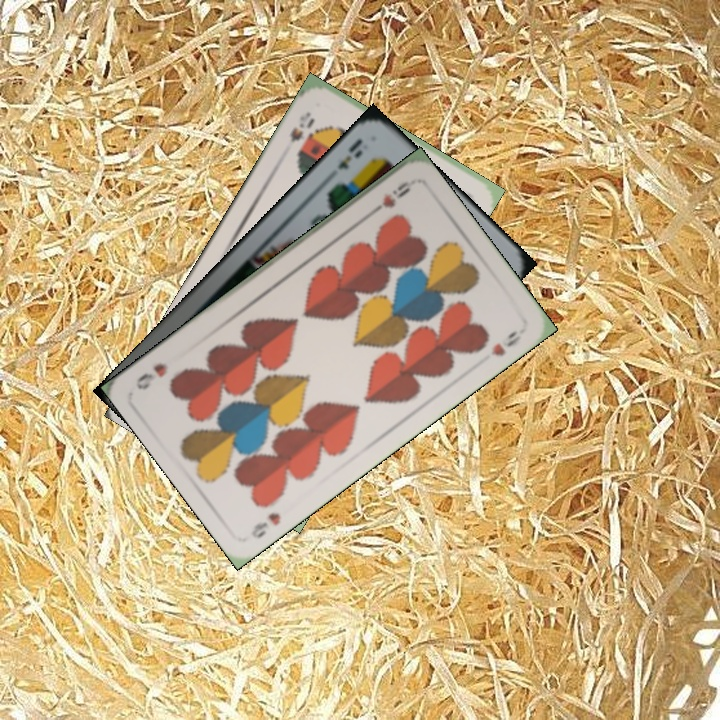EK: (333, 134, 366, 173)
H9: (364, 176, 415, 219), (247, 508, 283, 541)
SO: (285, 107, 317, 158)
